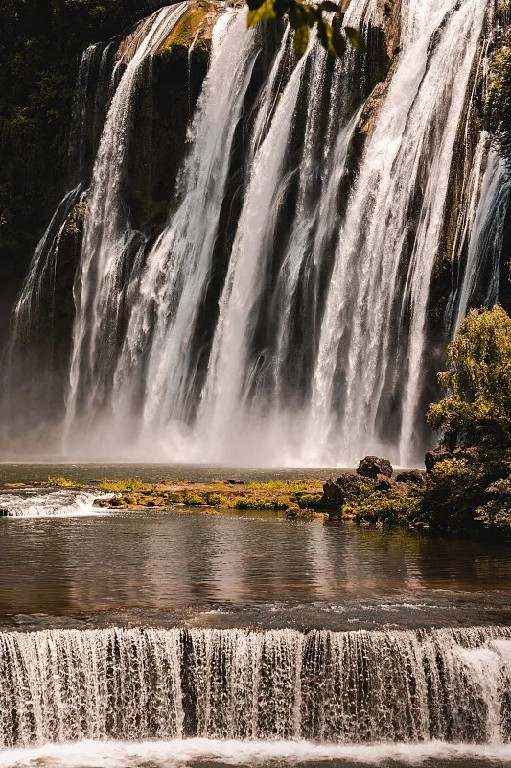Huangguoshu: (64, 1, 511, 467)
